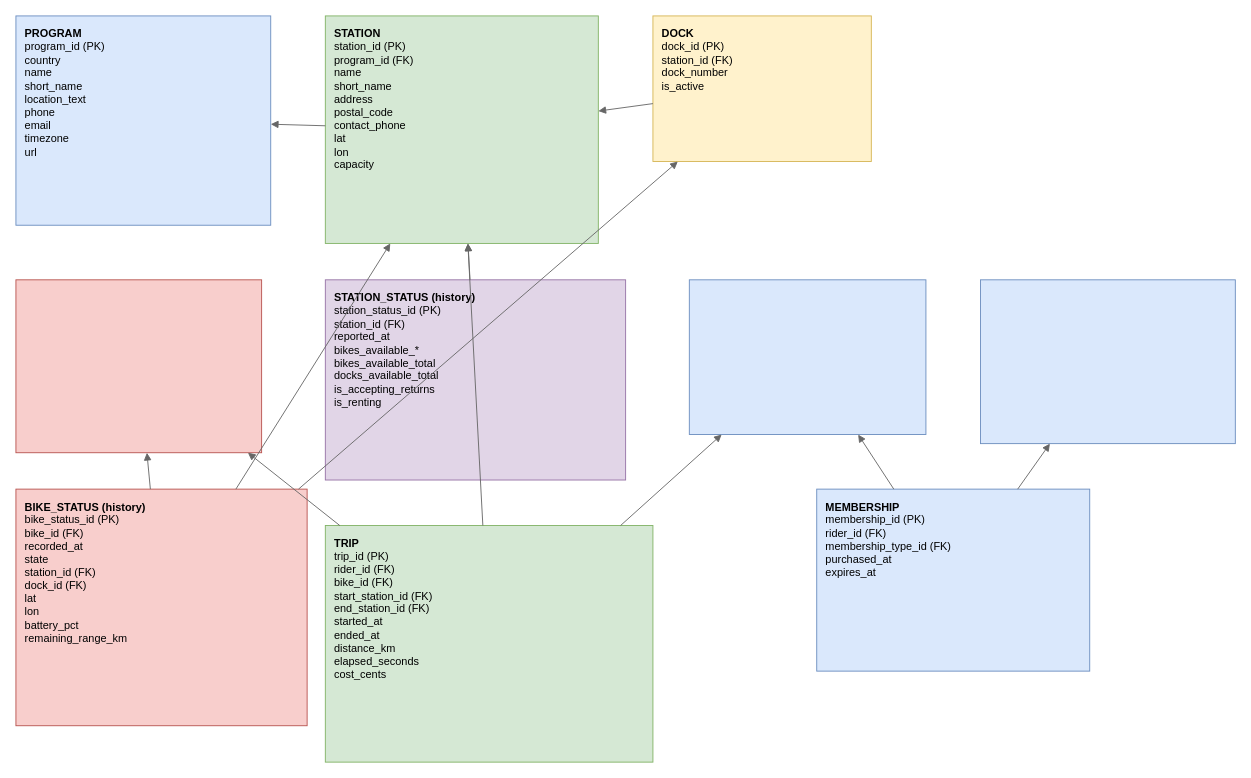
Some shapes in this 1251 by 778 pixel diagram are drawn without their labels. The shapes that lost their labels are listed below. From the top down, each one's centre as x and y in pixels, then its label:
(138,366): BIKE bike_id (PK) bike_type make model color year_acquired
(807,357): RIDER_ACCOUNT rider_id (PK) email full_name created_at
(1107,361): MEMBERSHIP_TYPE membership_type_id (PK) kind duration description
